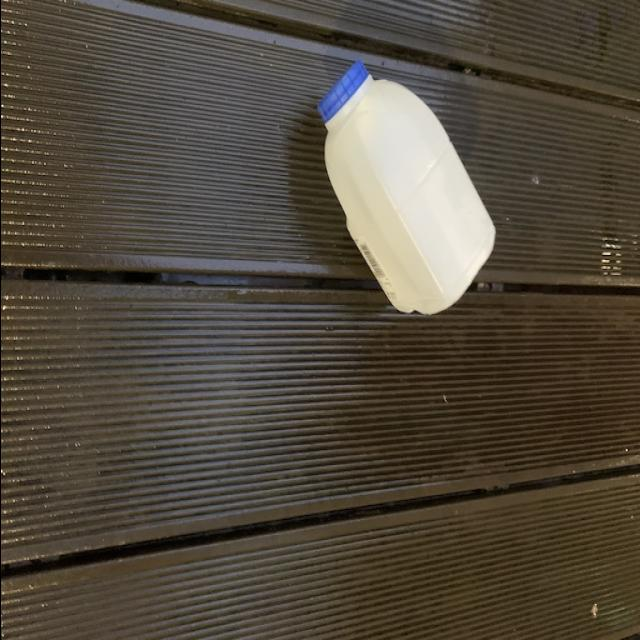HDPEM: (306, 50, 500, 320)
